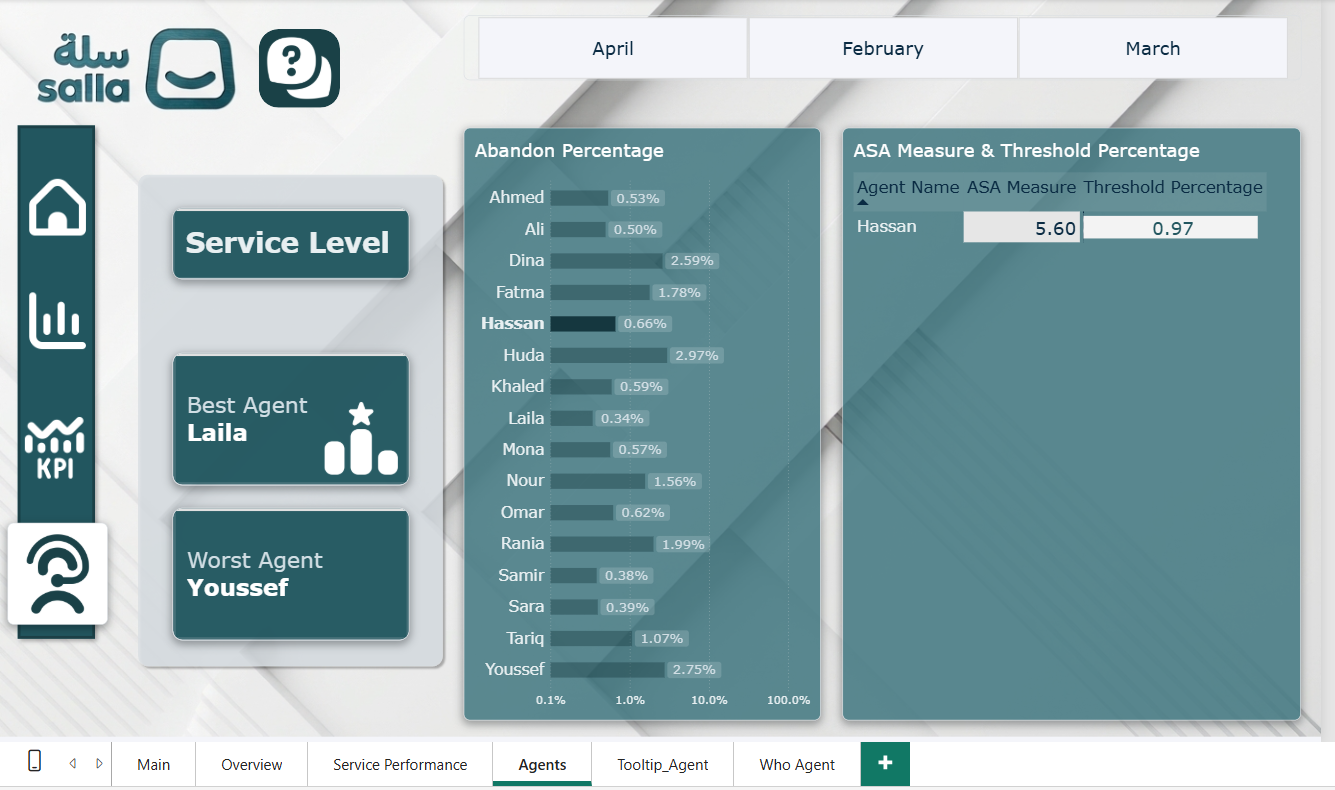

The page's visual inventory and layout, read from the dashboard file:
{"tool":"powerbi","page":{"name":"Agents","canvas":[1920,1080],"ordinal":3},"visuals":[{"type":"shape","box":[178.4,232.3,487.4,759],"z":0},{"type":"shape","box":[0,158.3,163.4,796.6],"z":1000},{"type":"shape","box":[10.9,760.8,145.5,148.1],"z":2000},{"type":"image","box":[28.1,408.5,112.3,117.4],"z":3000},{"type":"image","box":[15.3,592.3,132.8,120],"z":4000},{"type":"image","box":[10.9,760.8,145.3,148.9],"z":5000},{"type":"image","box":[27.2,232.4,112.6,139.8],"z":6000},{"type":"cardVisual","fields":{"Data":["Min(Sallah Project.Agent Name)"]},"box":[250.9,514.3,344.3,192.9],"z":7000},{"type":"cardVisual","fields":{"Data":["Min(Sallah Project.Agent Name)"]},"box":[250.9,738.3,344.3,192.9],"z":8000},{"type":"slicer","fields":{"Values":["Sallah Project.Month"]},"box":[673.6,23.6,1216.5,94.4],"z":9000},{"type":"clusteredBarChart","title":"Abandon Percentage","fields":{"Category":["Sallah Project.Agent Name"],"Y":["Sallah Project.Abandon Percentage"]},"box":[674,186.7,518.5,860.7],"z":10000},{"type":"pivotTable","title":"ASA Measure & Threshold Percentage","fields":{"Rows":["Sallah Project.Agent Name"],"Values":["Sallah Project.ASA Measure","Sallah Project.Threshold Percentage"]},"box":[1223.6,186.7,665.7,860.7],"z":11000},{"type":"cardVisual","fields":{"Data":["Min(Sallah Project.Agent Name)"]},"box":[250.9,302.8,344.3,103.7],"z":12000},{"type":"image","box":[453.9,570.1,141.6,136.2],"z":13000},{"type":"actionButton","box":[375.9,43.6,118,114.4],"z":15000}]}

Visuals, with their boxes on the page's 1920x1080 design canvas (x1, y1, x2, y2). These are canvas units, not pixel positions in the 1335x790 screenshot, which may show the page scaled, cropped or inside an application window:
shape: x1=178 y1=232 x2=666 y2=991
shape: x1=0 y1=158 x2=163 y2=955
shape: x1=11 y1=761 x2=156 y2=909
image: x1=28 y1=408 x2=140 y2=526
image: x1=15 y1=592 x2=148 y2=712
image: x1=11 y1=761 x2=156 y2=910
image: x1=27 y1=232 x2=140 y2=372
cardVisual - Min(Sallah Project.Agent Name): x1=251 y1=514 x2=595 y2=707
cardVisual - Min(Sallah Project.Agent Name): x1=251 y1=738 x2=595 y2=931
slicer - Sallah Project.Month: x1=674 y1=24 x2=1890 y2=118
"Abandon Percentage" clusteredBarChart: x1=674 y1=187 x2=1192 y2=1047
"ASA Measure & Threshold Percentage" pivotTable: x1=1224 y1=187 x2=1889 y2=1047
cardVisual - Min(Sallah Project.Agent Name): x1=251 y1=303 x2=595 y2=406
image: x1=454 y1=570 x2=596 y2=706
actionButton: x1=376 y1=44 x2=494 y2=158
